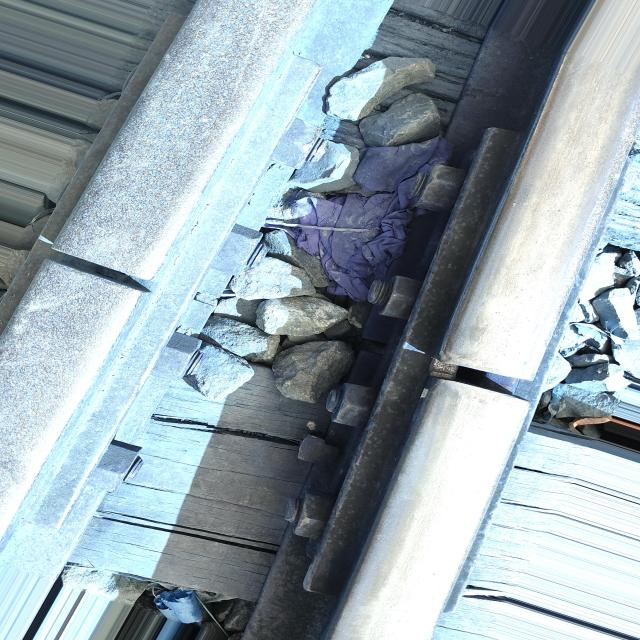crack: (5, 225, 187, 316), (427, 333, 551, 418)
